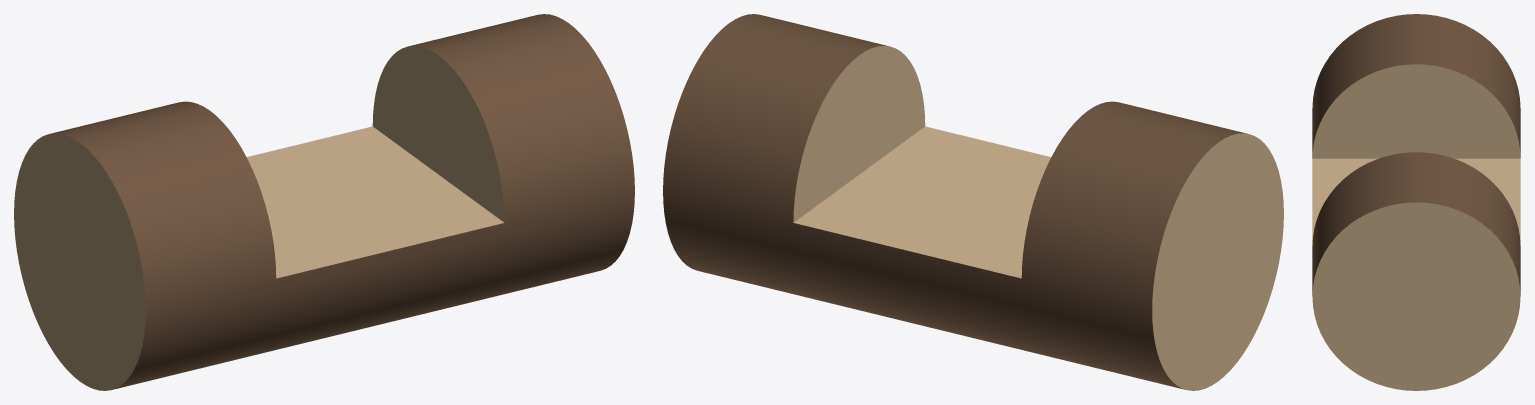
The model's file is SM_RawLog_75_Notch_HalfLap.fbx.
The picture shows the model from 3 angles, left to right: view 1: azimuth 30°, elevation 25°; view 2: azimuth 150°, elevation 25°; view 3: azimuth 270°, elevation 25°; orthographic projection. The views are drawn at different scales.
Parts seen in each view (by area): view 1: RawLog_75_Notch_HalfLap; view 2: RawLog_75_Notch_HalfLap; view 3: RawLog_75_Notch_HalfLap.
Boxes of the visible parts, x1=… form: RawLog_75_Notch_HalfLap: x1=14, y1=14, x2=634, y2=390; RawLog_75_Notch_HalfLap: x1=663, y1=14, x2=1283, y2=390; RawLog_75_Notch_HalfLap: x1=1312, y1=14, x2=1520, y2=390.
Size of what is drawn, in the model's own units: 0.75 by 0.35 by 0.35.
